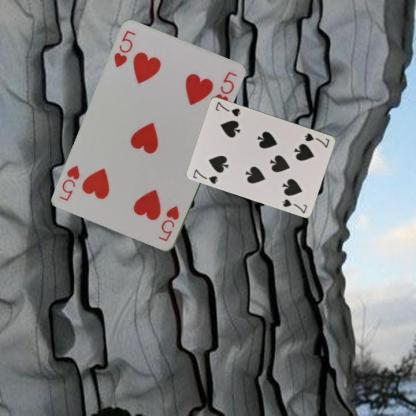5h: (112, 28, 136, 70), (156, 204, 181, 244)
7s: (302, 131, 331, 150), (191, 166, 220, 185)
